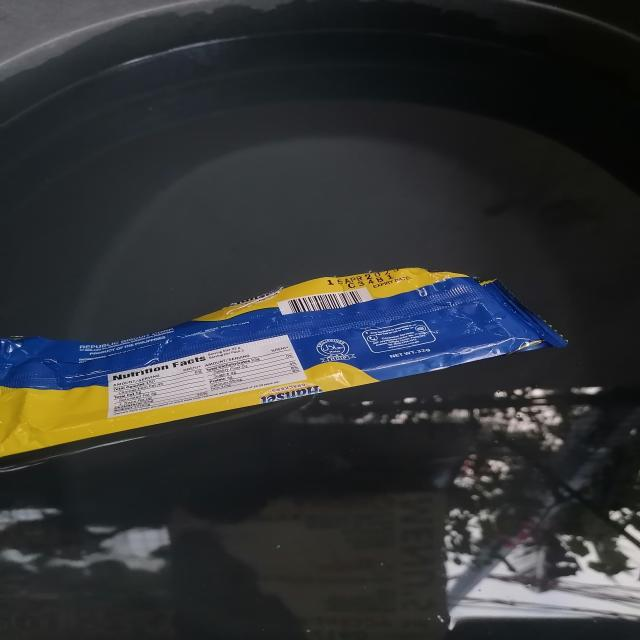Plastic Wrapper: (0, 268, 567, 456)
